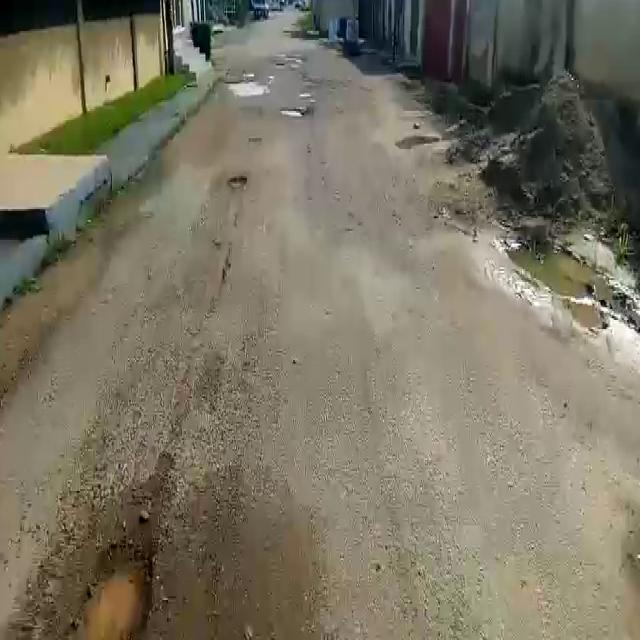pothole: (64, 545, 155, 640), (227, 80, 271, 98), (226, 174, 247, 192), (277, 107, 307, 119)
